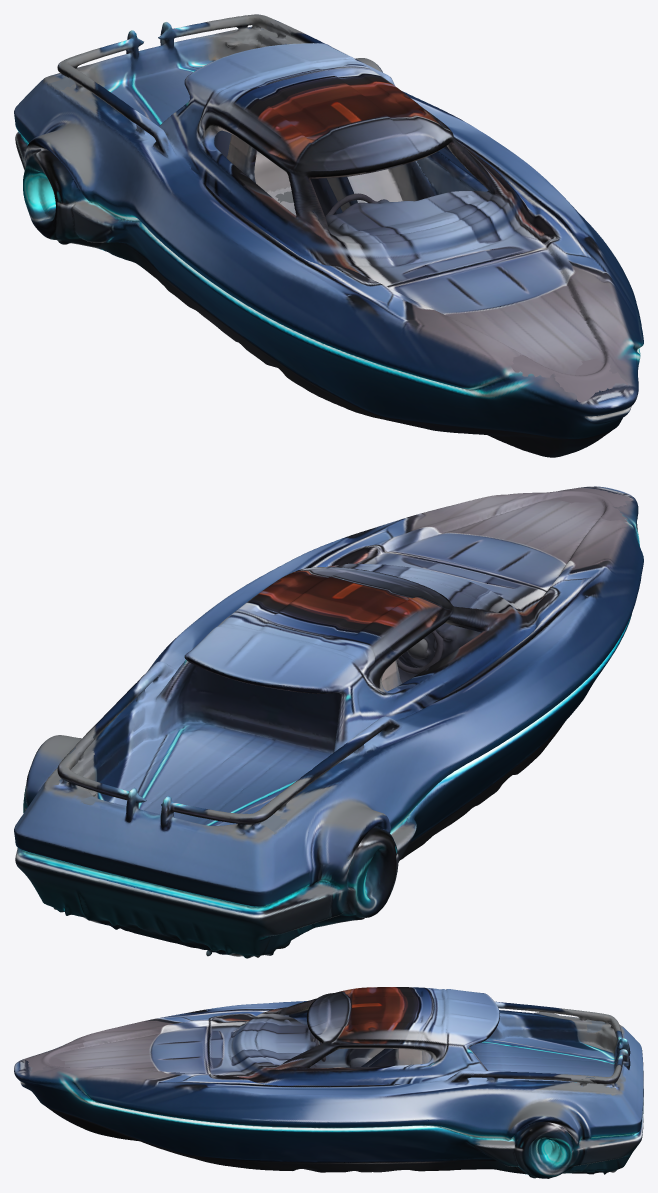
The model's file is ship_fixed.glb.
3 views of the same model, one above another, from view 1: azimuth 30°, elevation 25°; view 2: azimuth 150°, elevation 25°; view 3: azimuth 270°, elevation 25° (orthographic). The views are drawn at different scales.
Parts seen in each view (by area): view 1: tripo_node_496ae96f-b71b-4f9a-9ee5-04fa3e27d317; view 2: tripo_node_496ae96f-b71b-4f9a-9ee5-04fa3e27d317; view 3: tripo_node_496ae96f-b71b-4f9a-9ee5-04fa3e27d317.
Part boxes in pixels (x1,y1,x2,y2): tripo_node_496ae96f-b71b-4f9a-9ee5-04fa3e27d317: (14,14,643,457); tripo_node_496ae96f-b71b-4f9a-9ee5-04fa3e27d317: (14,486,643,958); tripo_node_496ae96f-b71b-4f9a-9ee5-04fa3e27d317: (14,987,643,1178).
Bounding box in the file's own units: 0.4121 × 0.2496 × 1.
1 material, 1 textured.
